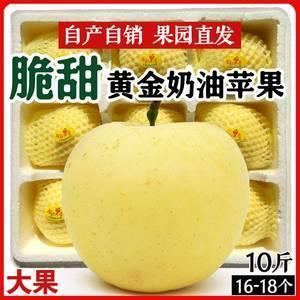apple: (59, 119, 251, 292)
